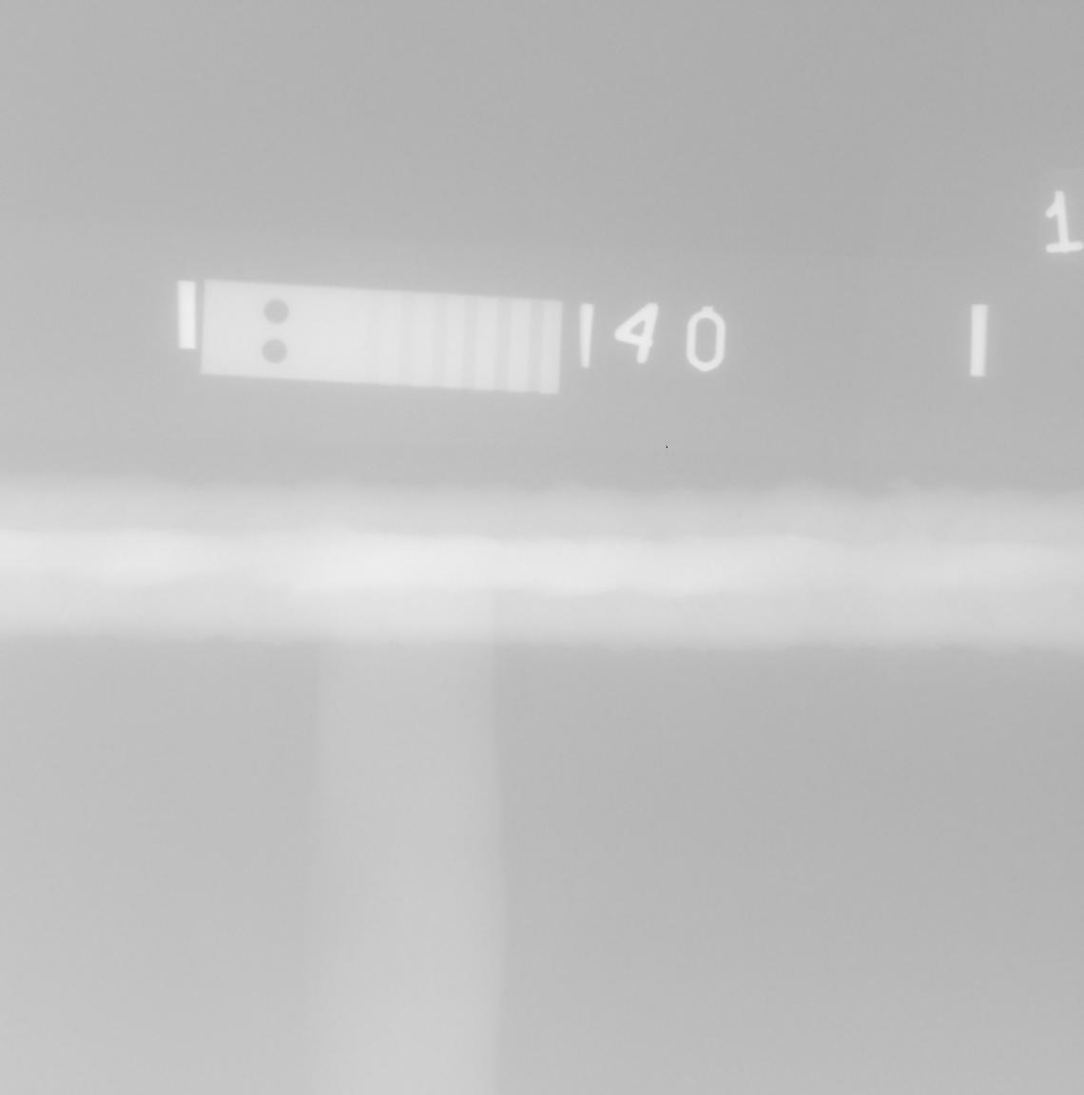Reference Standard 2: (199, 280, 563, 395)
